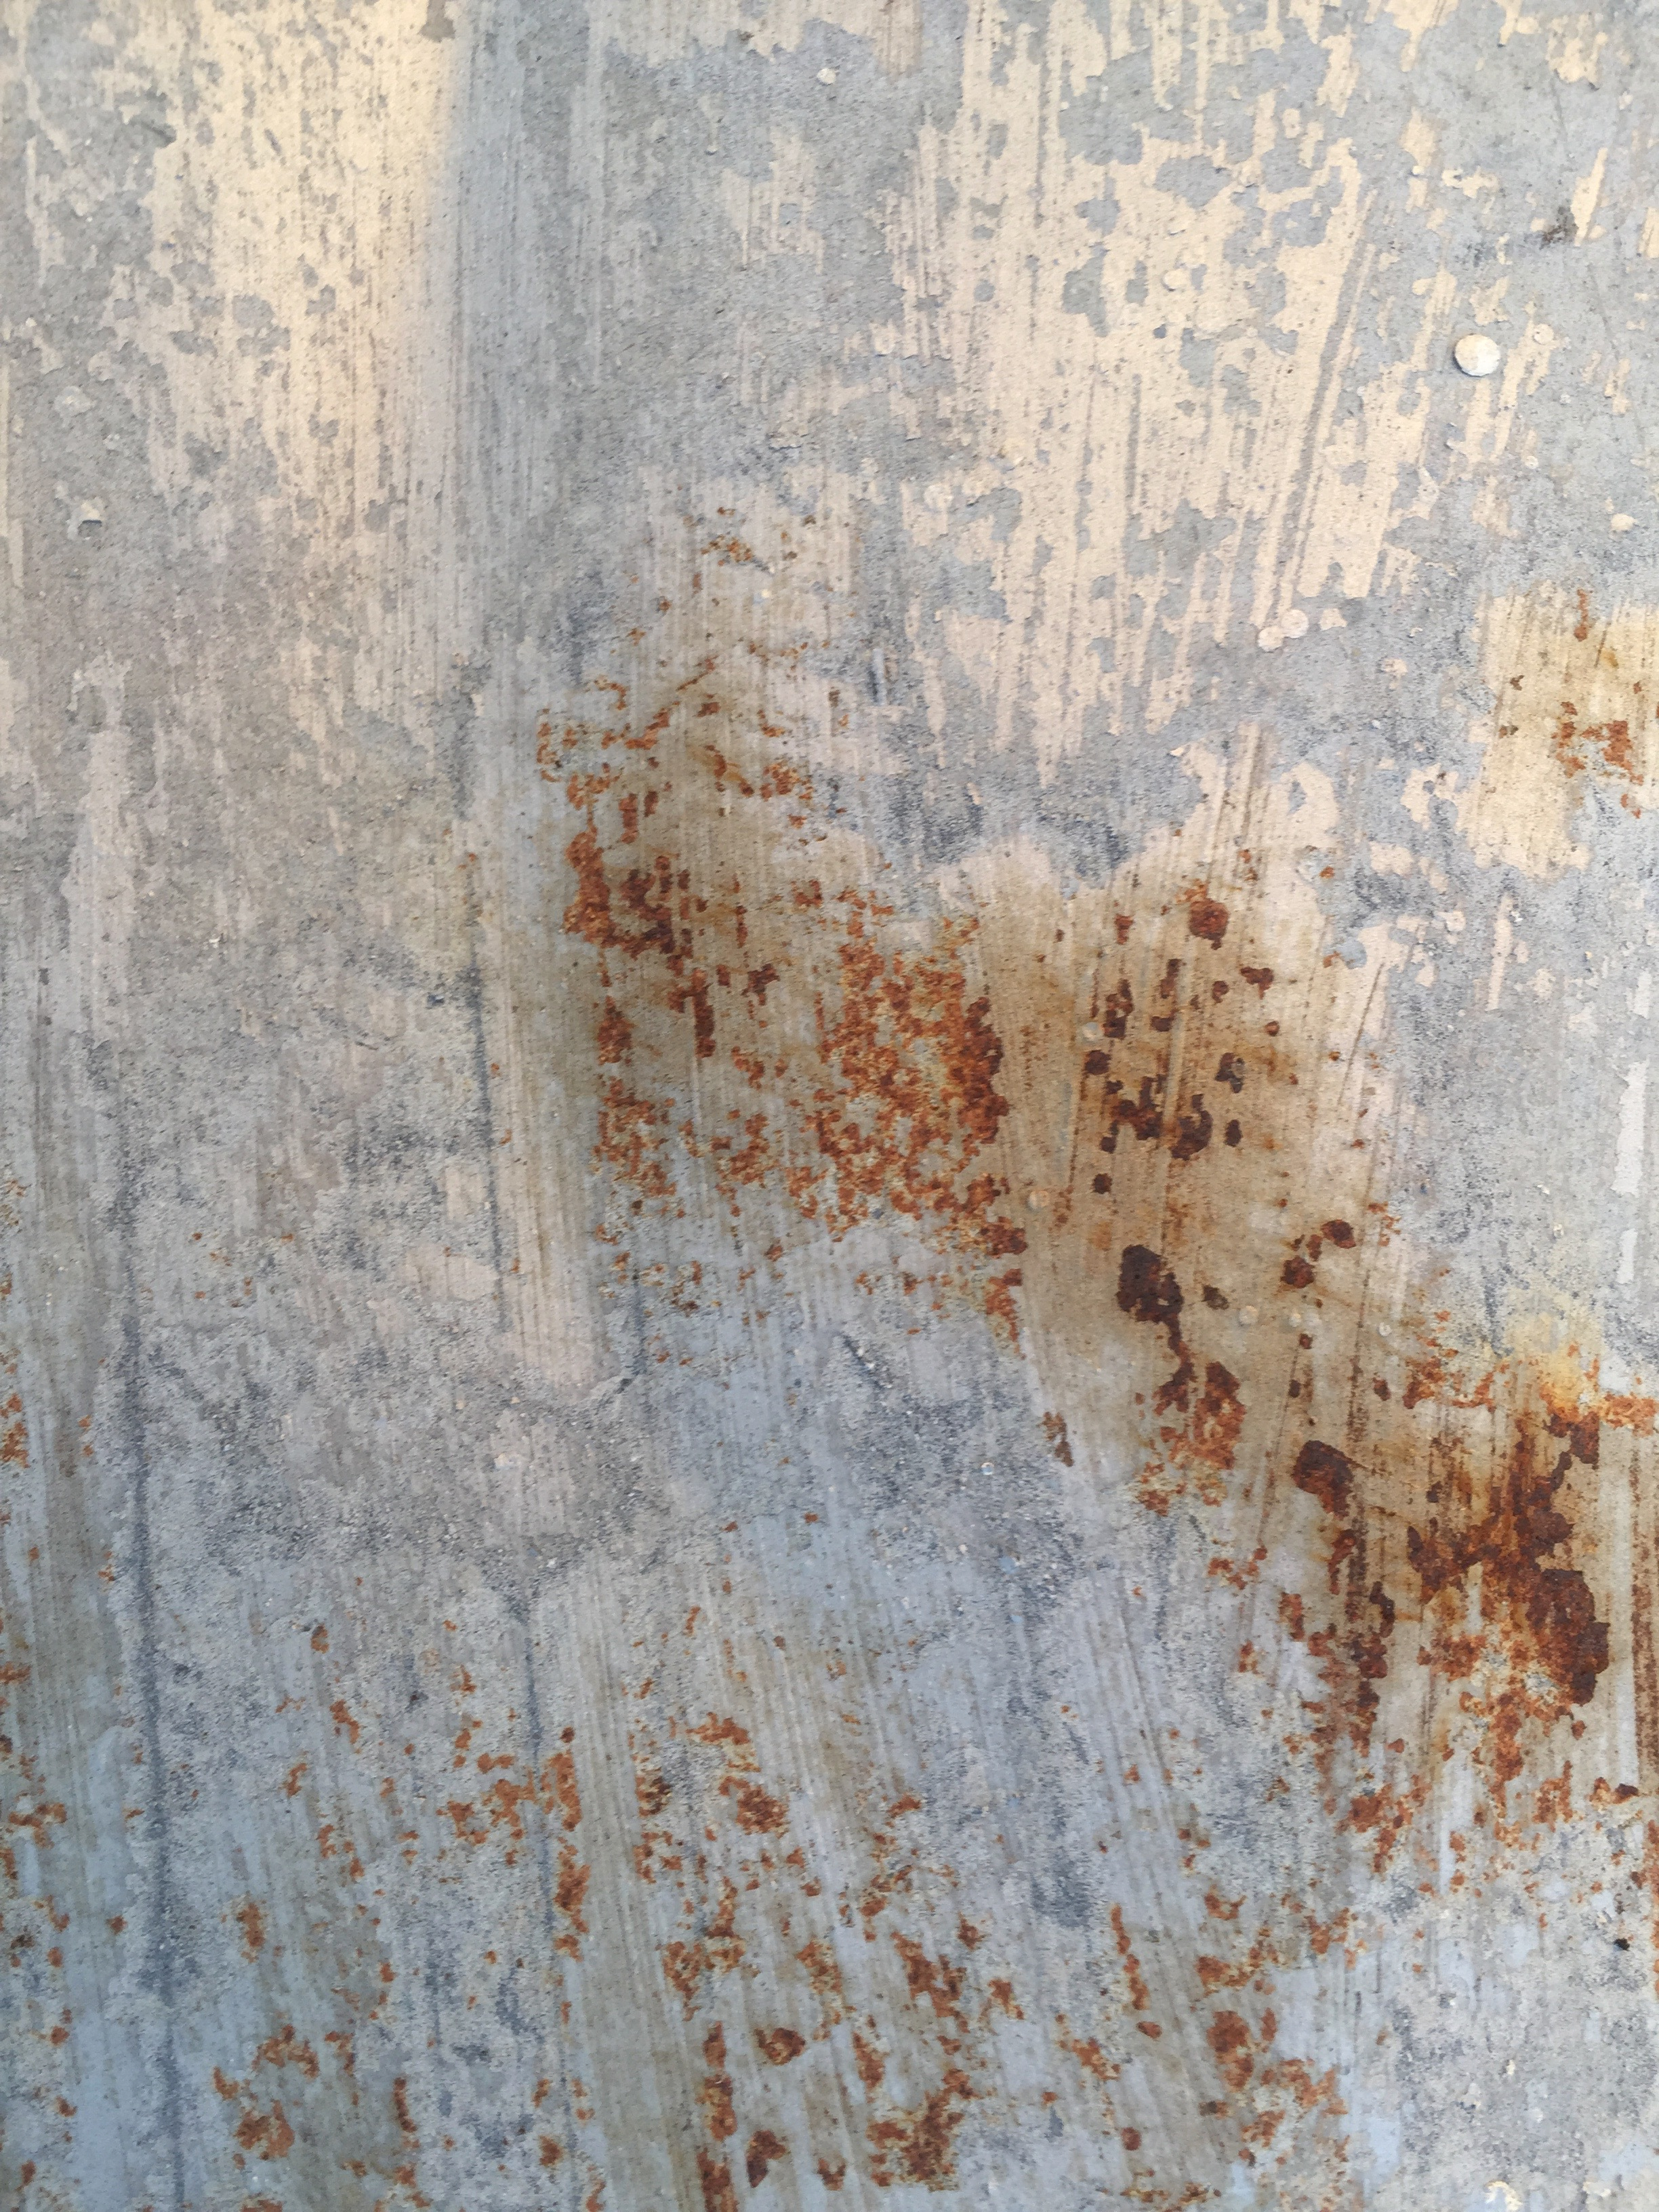rust: (554, 660, 1033, 1355), (1310, 1294, 1659, 1958), (1042, 876, 1361, 1552), (640, 1710, 985, 2209), (223, 1904, 596, 2212), (1046, 1914, 1345, 2212), (305, 1674, 606, 1961), (16, 1545, 84, 2212), (0, 1249, 26, 2212), (1521, 617, 1643, 810)
